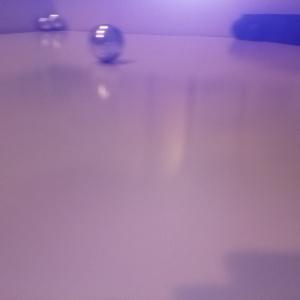alive_ball: (87, 24, 125, 63), (48, 14, 64, 30), (38, 17, 52, 31)
dead_ball: (231, 18, 253, 41), (244, 22, 264, 41)
